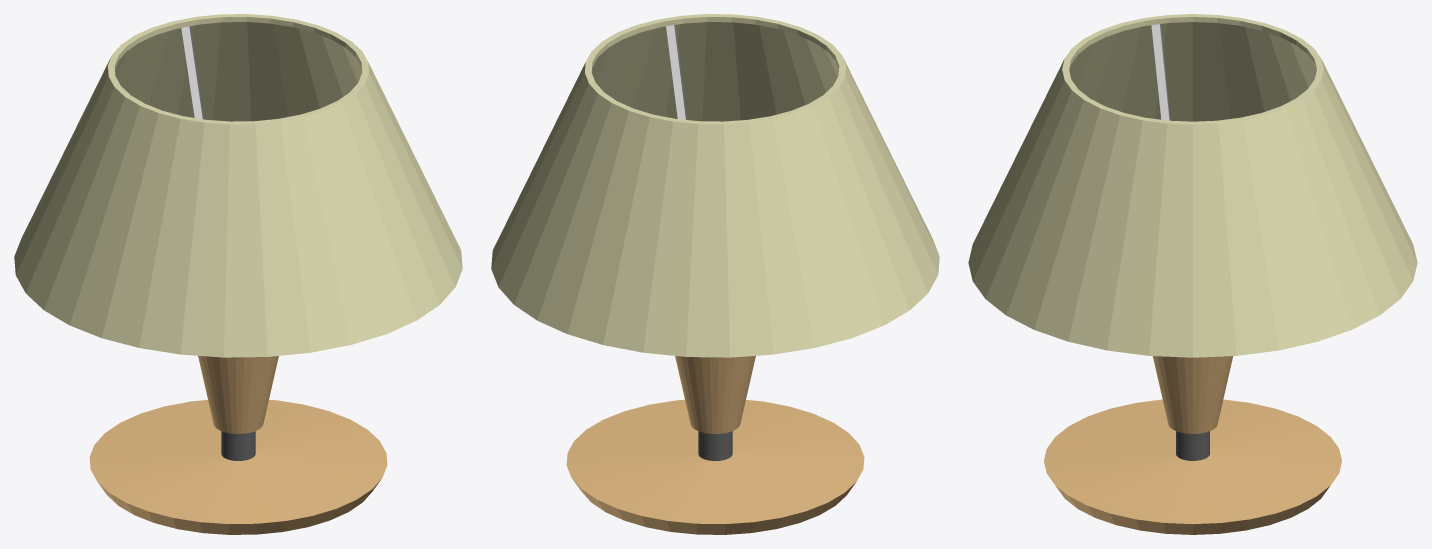
Rendered from sh-scopia-little-lamp2.glb.
The picture shows the model from 3 angles, left to right: view 1: azimuth 30°, elevation 25°; view 2: azimuth 150°, elevation 25°; view 3: azimuth 270°, elevation 25°; orthographic projection.
Parts seen in each view (by area): view 1: lamp1_Circle.001_lampshade_multilamps.jpg, lamp1_Circle.001_wood, lamp1_Circle.001_whitesop, lamp1_Circle.001_metall_brush; view 2: lamp1_Circle.001_lampshade_multilamps.jpg, lamp1_Circle.001_wood, lamp1_Circle.001_whitesop, lamp1_Circle.001_metall_brush; view 3: lamp1_Circle.001_lampshade_multilamps.jpg, lamp1_Circle.001_wood, lamp1_Circle.001_whitesop, lamp1_Circle.001_metall_brush.
Part boxes in pixels (x1,y1,x2,y2): lamp1_Circle.001_lampshade_multilamps.jpg: [14, 14, 462, 357]; lamp1_Circle.001_wood: [89, 355, 387, 534]; lamp1_Circle.001_whitesop: [181, 26, 204, 119]; lamp1_Circle.001_metall_brush: [221, 431, 255, 460]; lamp1_Circle.001_lampshade_multilamps.jpg: [491, 14, 939, 357]; lamp1_Circle.001_wood: [566, 355, 864, 534]; lamp1_Circle.001_whitesop: [666, 25, 686, 119]; lamp1_Circle.001_metall_brush: [698, 431, 732, 460]; lamp1_Circle.001_lampshade_multilamps.jpg: [968, 14, 1417, 357]; lamp1_Circle.001_wood: [1044, 356, 1341, 534]; lamp1_Circle.001_whitesop: [1151, 24, 1170, 120]; lamp1_Circle.001_metall_brush: [1176, 431, 1209, 460].
Size of what is drawn, in the model's own units: 1 by 1 by 1.
